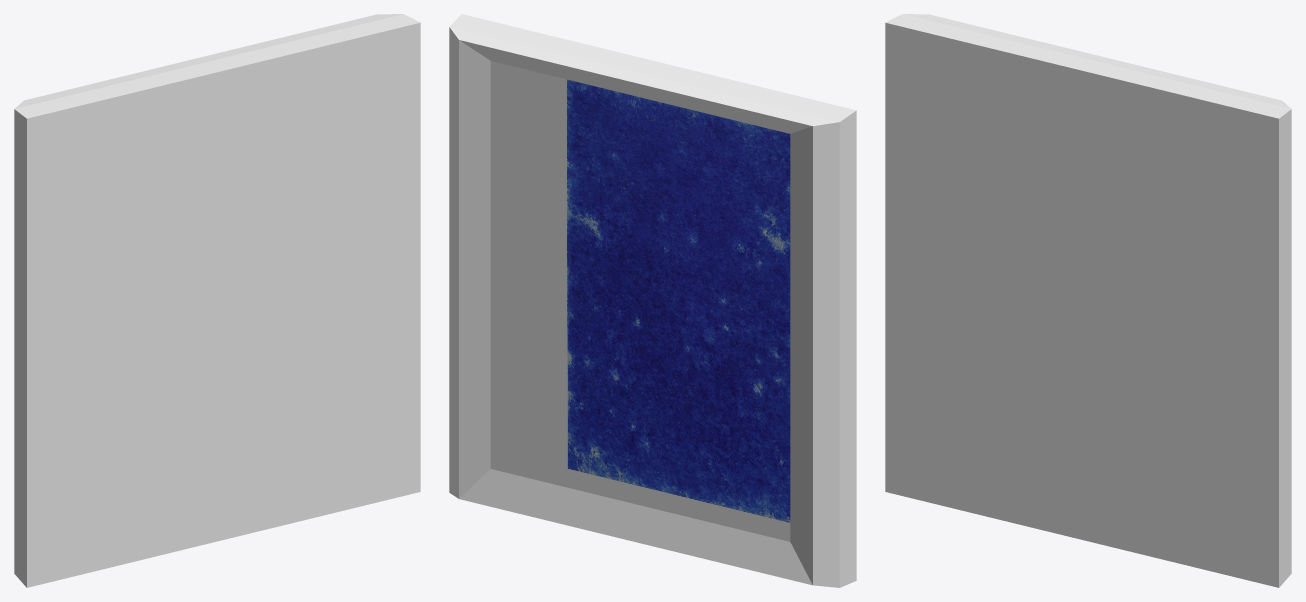
File: M_frame_8.FBX
3 views of the same model, side by side, from view 1: azimuth 30°, elevation 25°; view 2: azimuth 150°, elevation 25°; view 3: azimuth 330°, elevation 25° (orthographic).
Visible parts, largest first — view 1: frame008; view 2: frame008; view 3: frame008.
Boxes of the visible parts, x1,y1,x2,y2 form: frame008: [14, 14, 420, 587]; frame008: [449, 14, 856, 587]; frame008: [885, 14, 1291, 587].
Size of the model in its own units: 82.46 by 93.9 by 8.46.
